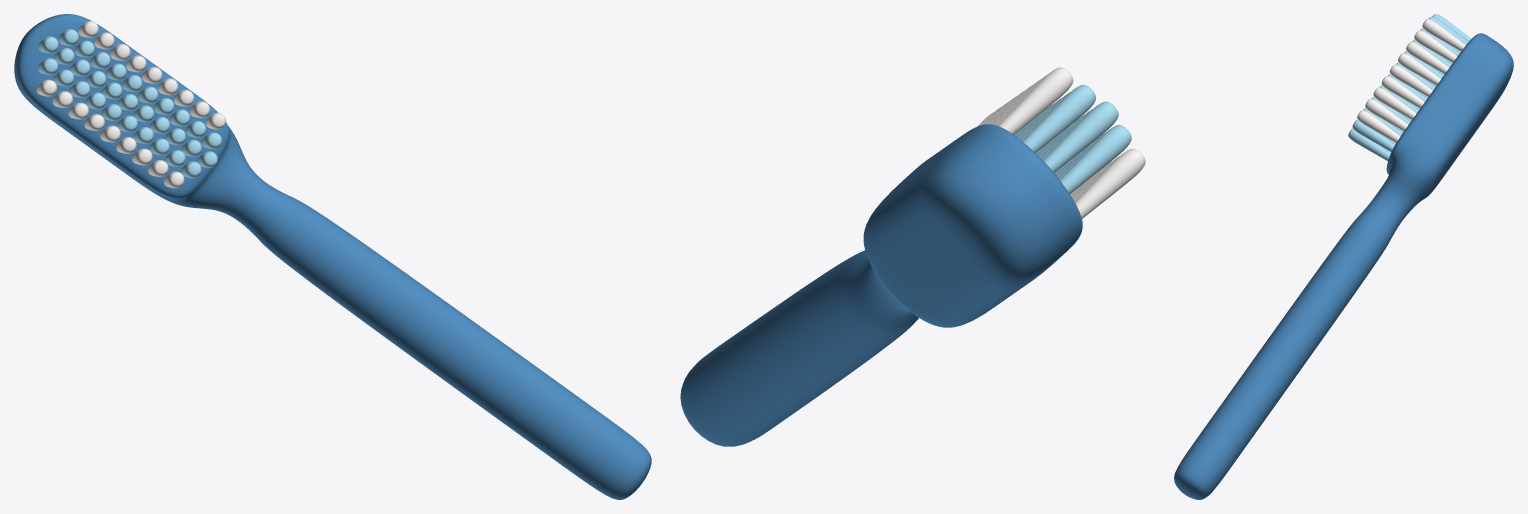
Rendered from toothbrush.glb.
The picture shows the model from 3 angles, left to right: view 1: azimuth 30°, elevation 25°; view 2: azimuth 150°, elevation 25°; view 3: azimuth 270°, elevation 25°; orthographic projection. The views are drawn at different scales.
Parts seen in each view (by area): view 1: Cube.007; view 2: Cube.007; view 3: Cube.007.
Boxes of the visible parts, bbox=[...] form: Cube.007: bbox=[14, 14, 651, 499]; Cube.007: bbox=[680, 67, 1145, 446]; Cube.007: bbox=[1174, 14, 1513, 499].
Size of the model in its own units: 1.52 by 1.45 by 1.31.
1 material, 1 textured.
